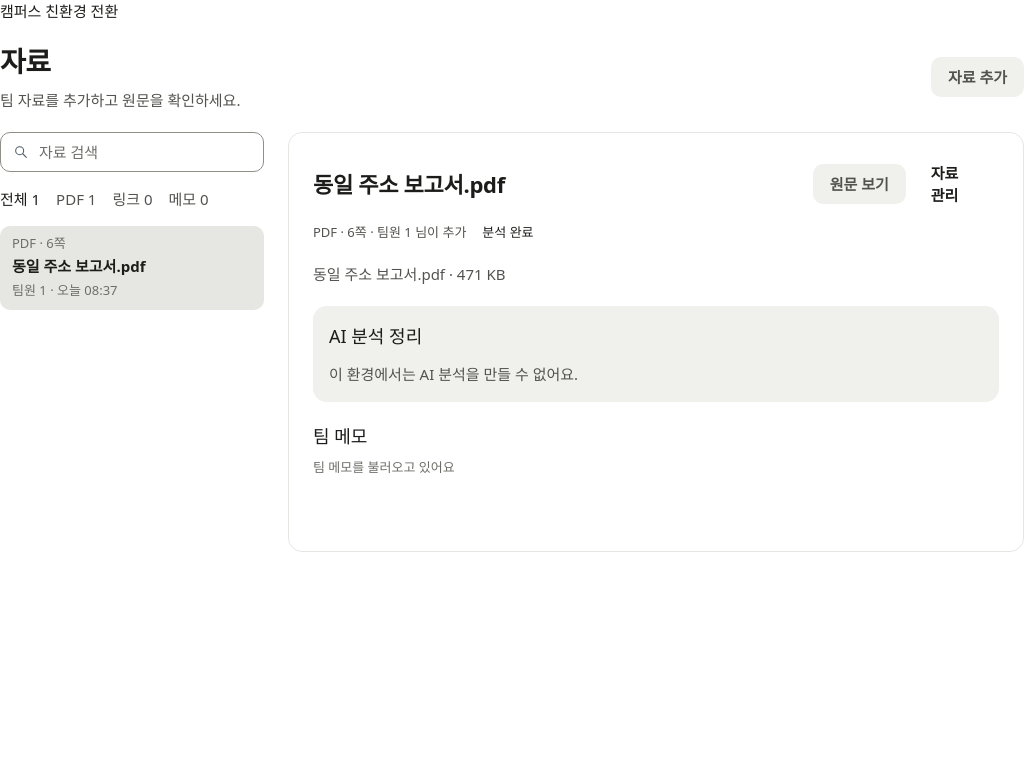
Test: 재발급된 주소가 같아도 PDF를 다시 열고 보던 쪽을 복원한다
This screenshot has width=1024, height=768.
Click the button "원문 보기": click(859, 184) [813,164,906,204]
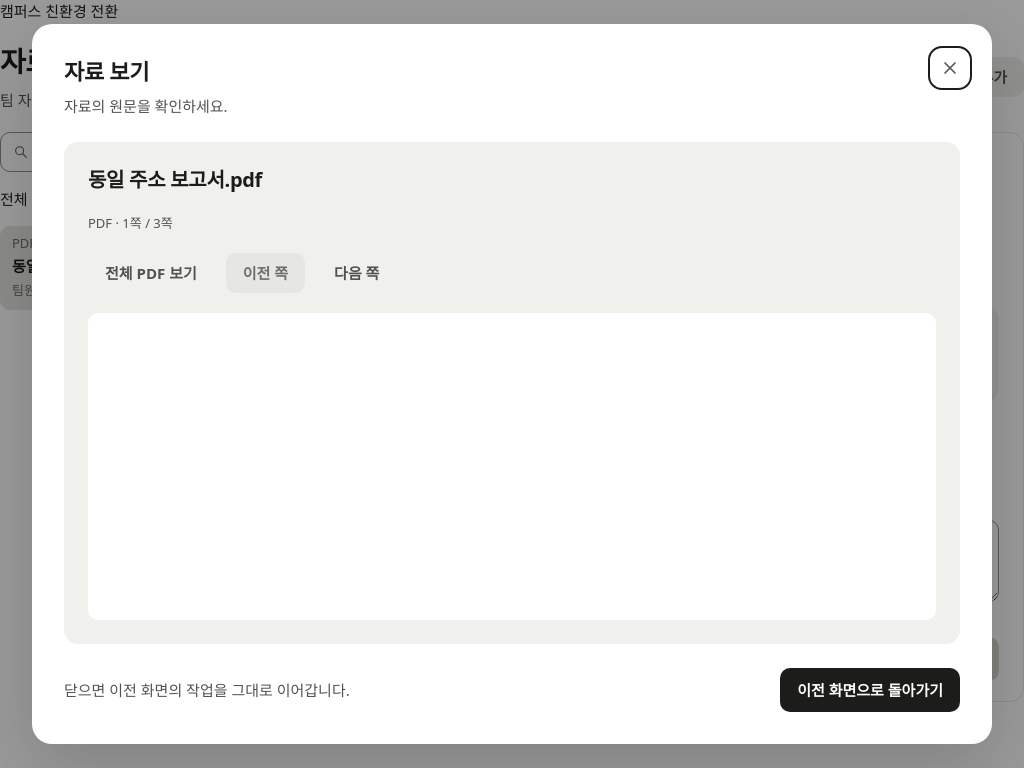
Expected: the text "PDF · 1쪽 / 3쪽" is shown, [88,214,173,232]
